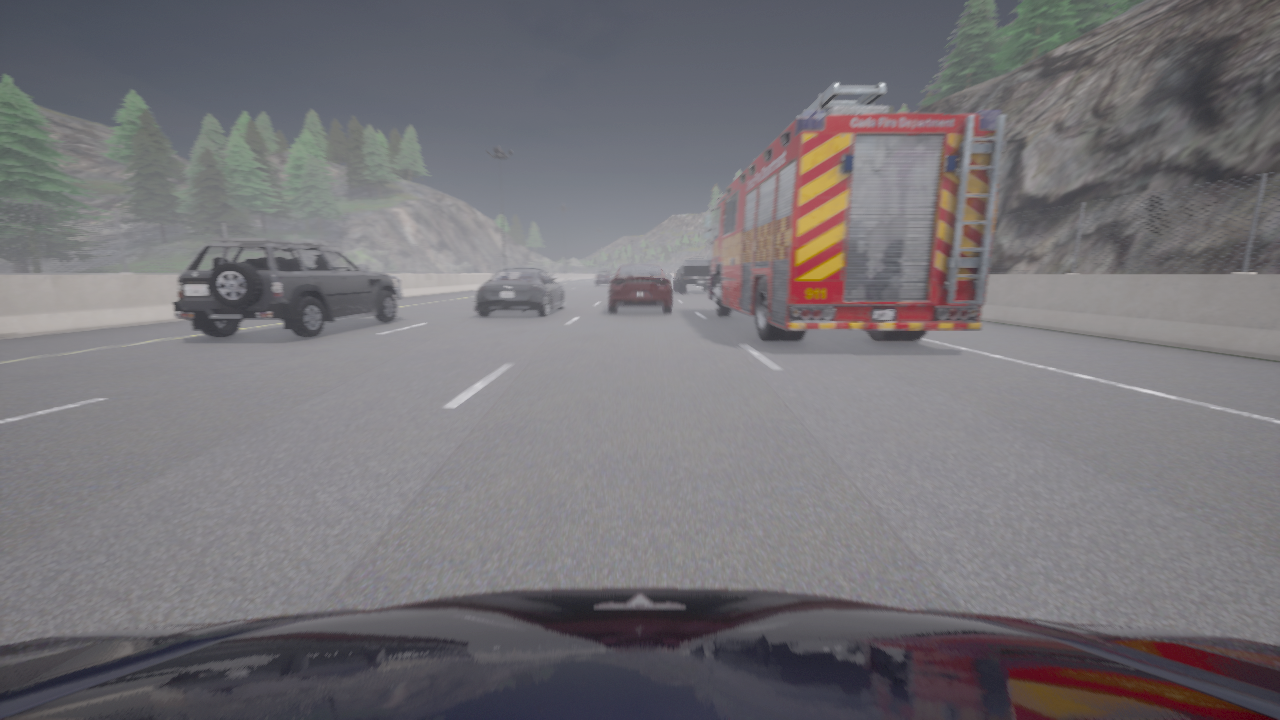cyclist: (0, 588, 1279, 719), (703, 83, 1005, 341), (172, 240, 401, 337), (475, 268, 565, 317), (609, 263, 671, 312), (674, 259, 711, 293), (595, 271, 613, 285), (544, 270, 553, 277)
